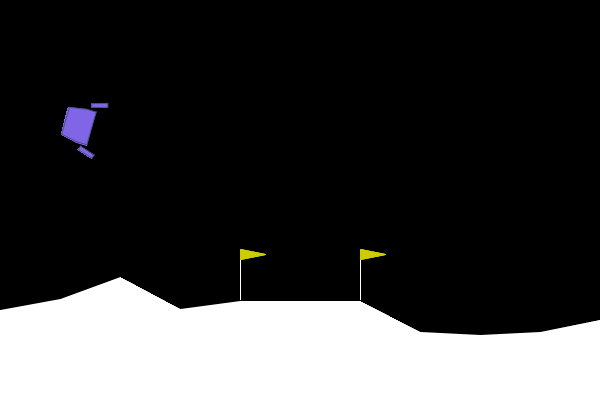lander: (55, 92, 110, 161)
